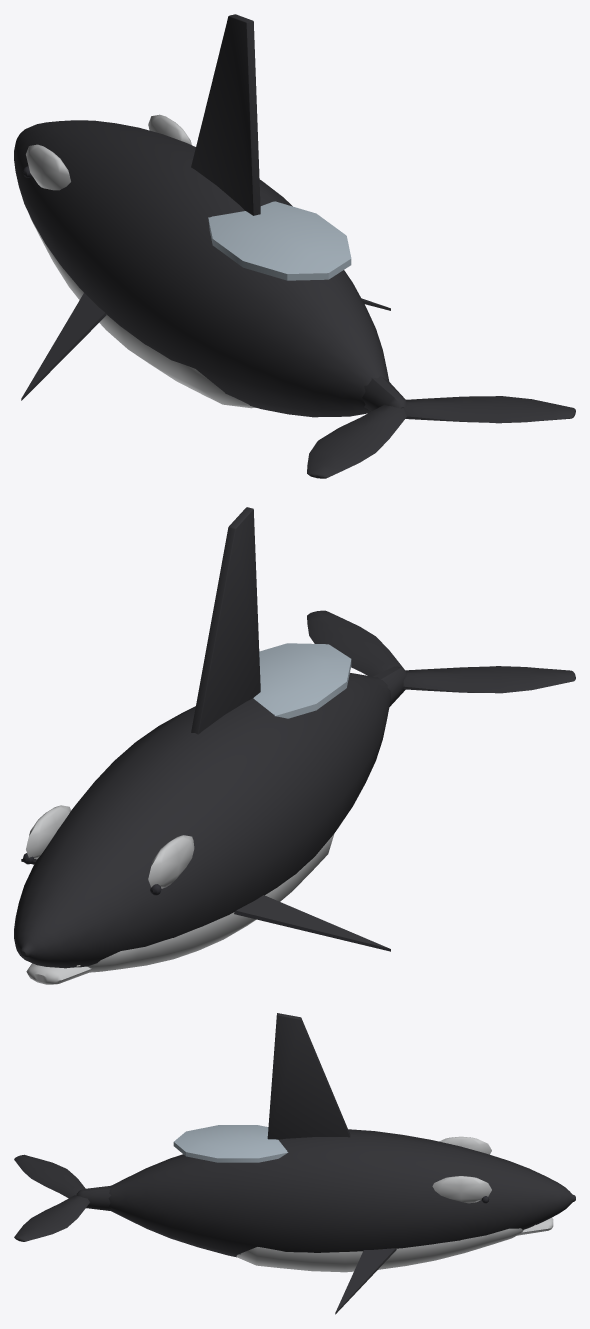
The model's file is sea_orca.gltf.
3 renders of one model, top to bottom at view 1: azimuth 30°, elevation 25°; view 2: azimuth 150°, elevation 25°; view 3: azimuth 270°, elevation 25°, orthographic. The views are drawn at different scales.
Parts seen in each view (by area): view 1: Body, Tail; view 2: Body, Tail, Jaw; view 3: Body, Tail.
Boxes of the visible parts, box(x1,y1,x2,y2) form: Body: box(14, 14, 390, 417); Tail: box(307, 375, 575, 478); Body: box(14, 507, 390, 972); Tail: box(307, 610, 575, 706); Jaw: box(26, 963, 92, 984); Body: box(108, 1013, 575, 1314); Tail: box(14, 1154, 111, 1241).
Size of the model in its own units: 2.9 by 2.84 by 5.8.
